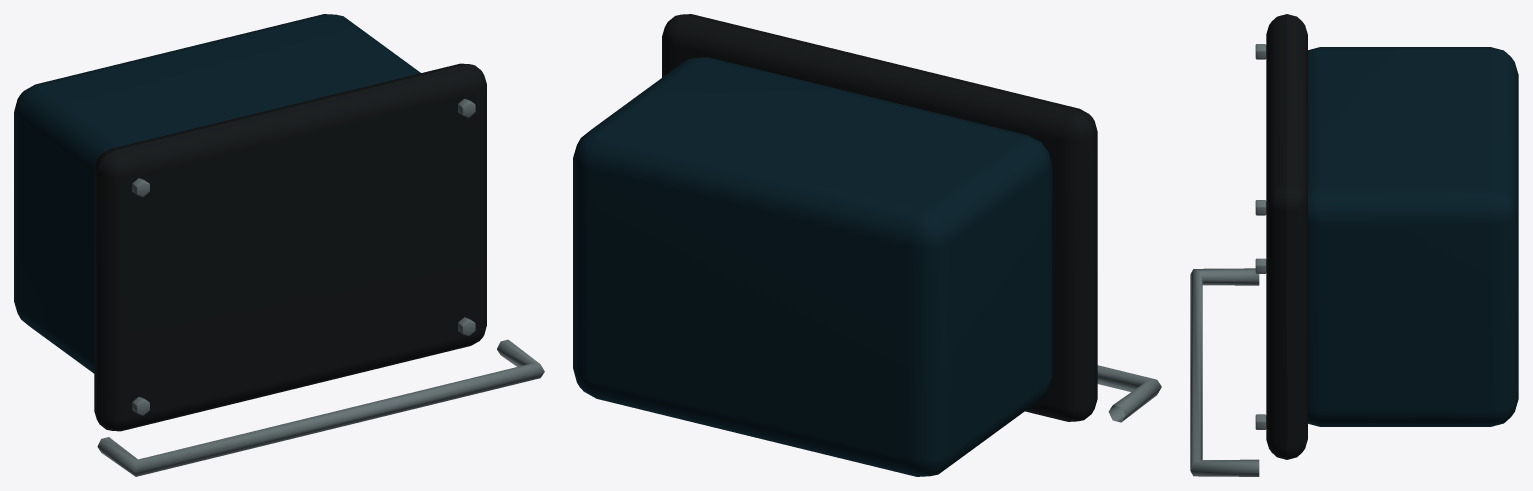
File: SM_ControlConsole.obj
The picture shows the model from 3 angles, left to right: view 1: azimuth 30°, elevation 25°; view 2: azimuth 150°, elevation 25°; view 3: azimuth 270°, elevation 25°; orthographic projection. The views are drawn at different scales.
Visible parts, largest first — view 1: SM_ControlConsole; view 2: SM_ControlConsole; view 3: SM_ControlConsole.
Boxes of the visible parts, x1,y1,x2,y2 form: SM_ControlConsole: (14, 14, 544, 476); SM_ControlConsole: (573, 14, 1161, 476); SM_ControlConsole: (1190, 14, 1518, 476).
Bounding box in the file's own units: 135 × 88.67 × 94.27.
